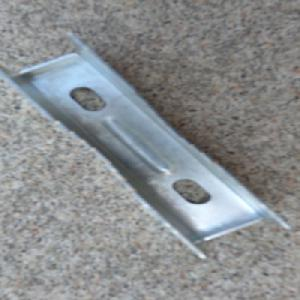ClampPart: (0, 31, 289, 257)
